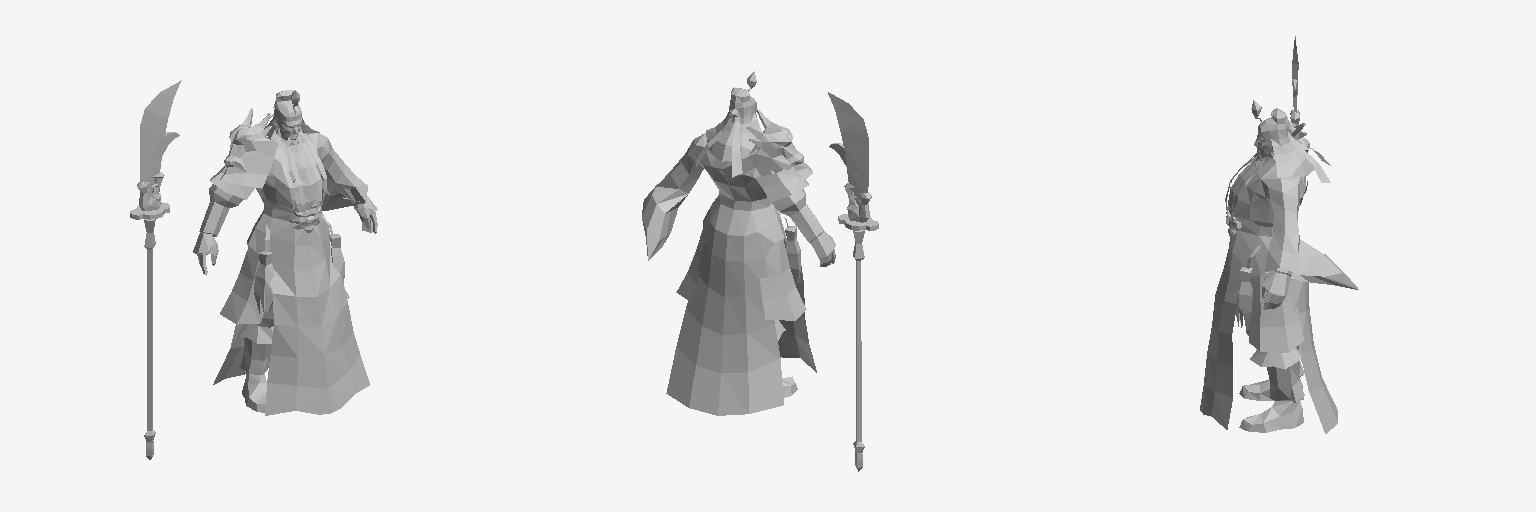
Rendered from secexport.obj.
The picture shows the model from 3 angles: view 1: azimuth 30°, elevation 25°; view 2: azimuth 150°, elevation 25°; view 3: azimuth 270°, elevation 25°; orthographic projection.
Parts seen in each view (by area): view 1: default, _1; view 2: default, _1; view 3: default.
Boxes of the visible parts, box(x1,y1,x2,y2) form: default: box(193, 90, 377, 415); _1: box(130, 80, 181, 459); default: box(642, 71, 835, 415); _1: box(828, 92, 878, 471); default: box(1200, 100, 1358, 433).
Size of the model in its own units: 2.93 by 4.45 by 1.73.